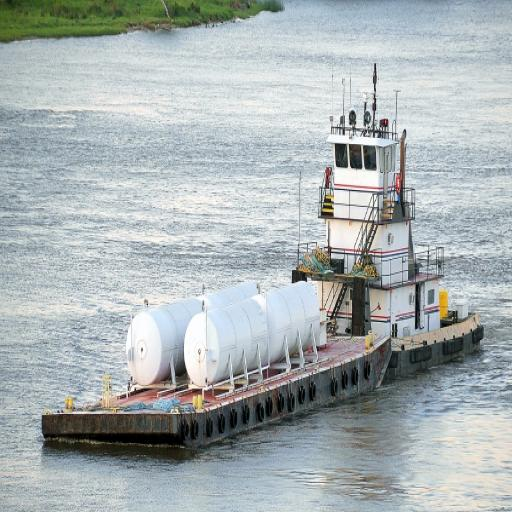tugboat: (289, 61, 489, 401)
